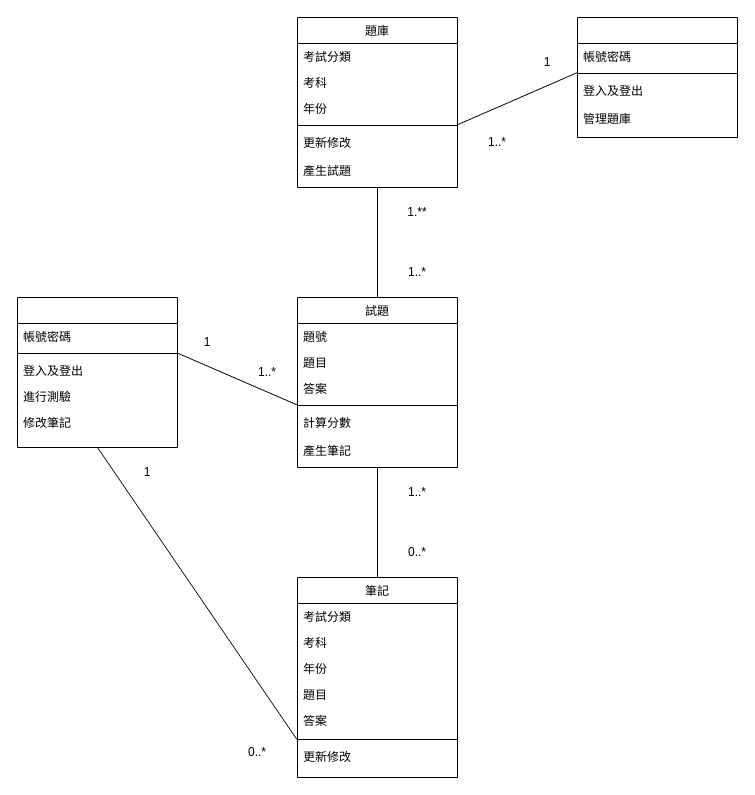
Image size: 755x795. Some labels were removed from this diagram. Here are the shapes that lost their labels. From the top down, the box of each, then its label:
(576, 16, 738, 138): 管理者
(16, 296, 178, 448): 使用者
